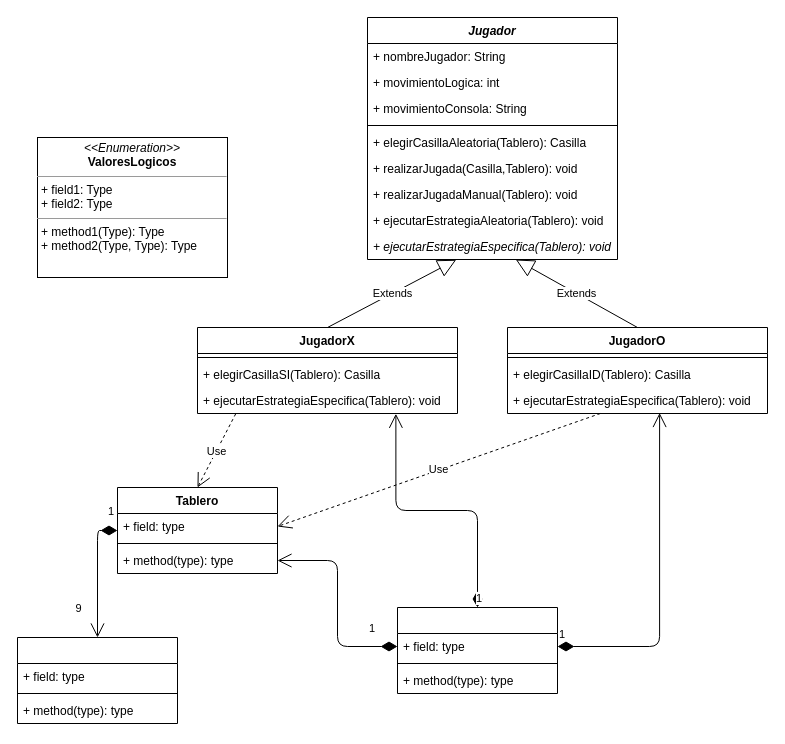
Image size: 785x744. Some labels were removed from this diagram. The box of each missing label's shape, as (x1, y1, x2, y2) in pixels:
Casilla: (16, 636, 178, 724)
Juego: (396, 606, 558, 694)
